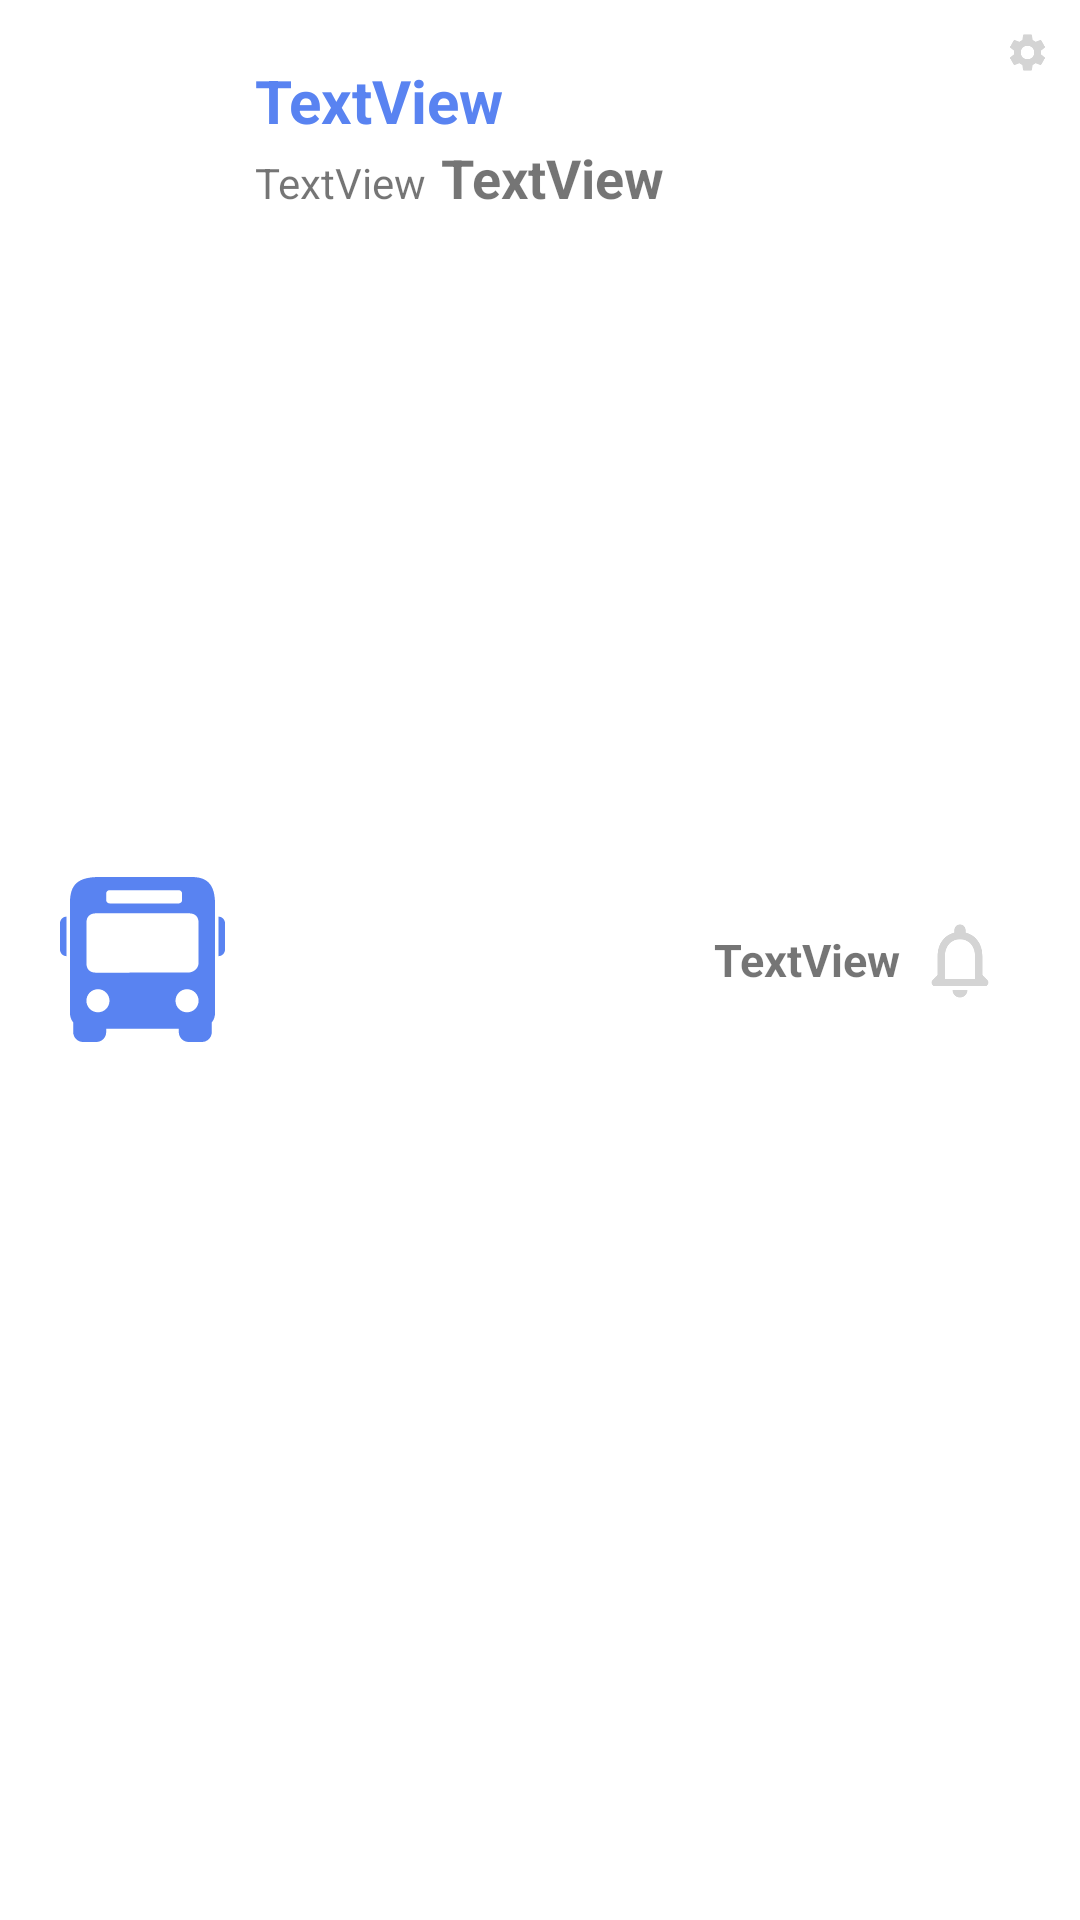

Icons on this 1080px x 1920px Android screen, each with the point to tap as (x,y):
bell: (960,961)
bus: (142,959)
settings: (1027,52)
